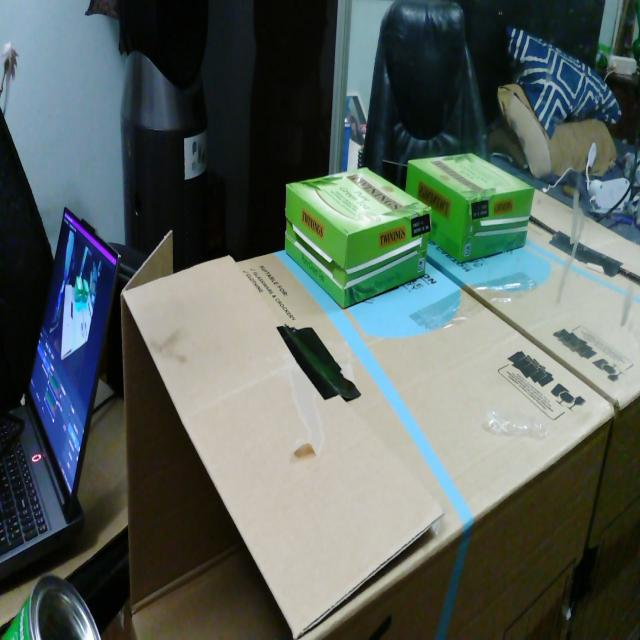twinings_greentea_box: (285, 168, 431, 308)
